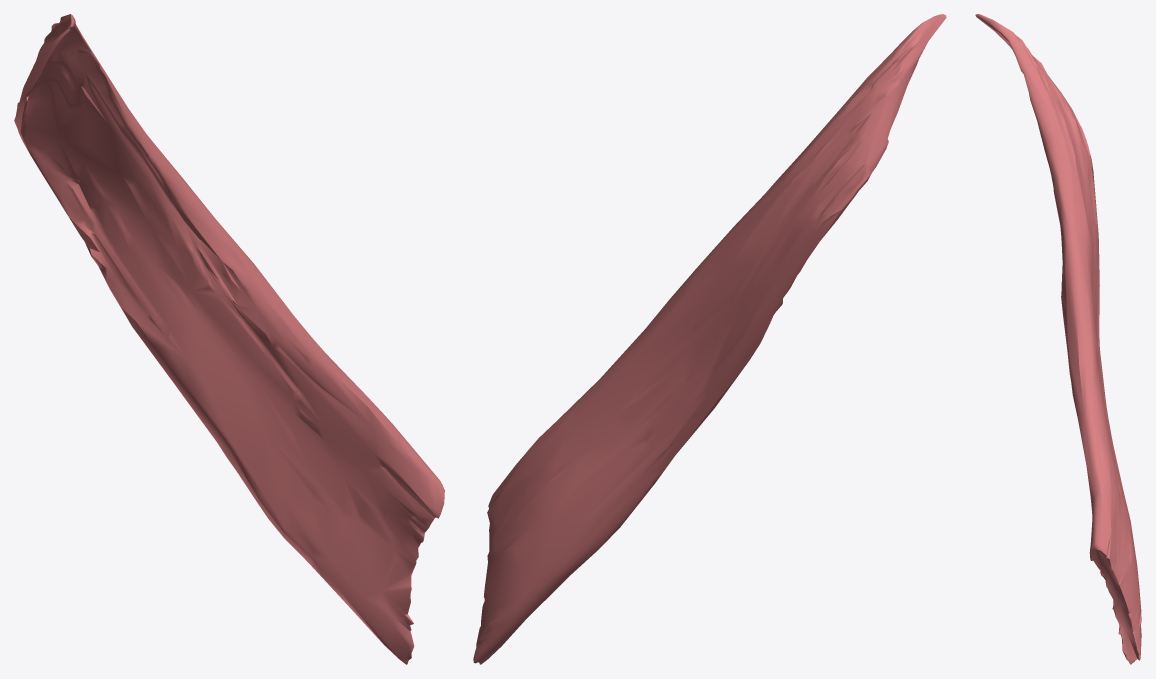
3 renders of one model, left to right at view 1: azimuth 30°, elevation 25°; view 2: azimuth 150°, elevation 25°; view 3: azimuth 270°, elevation 25°, orthographic. The views are drawn at different scales.
Visible parts, largest first — view 1: FJ1537M; view 2: FJ1537M; view 3: FJ1537M.
Boxes of the visible parts, left/top/right/bottom form: FJ1537M: left=14, top=14, right=444, bottom=664; FJ1537M: left=473, top=14, right=946, bottom=664; FJ1537M: left=975, top=14, right=1141, bottom=664.
Bounding box in the file's own units: 0.0623 × 0.1061 × 0.0311.
